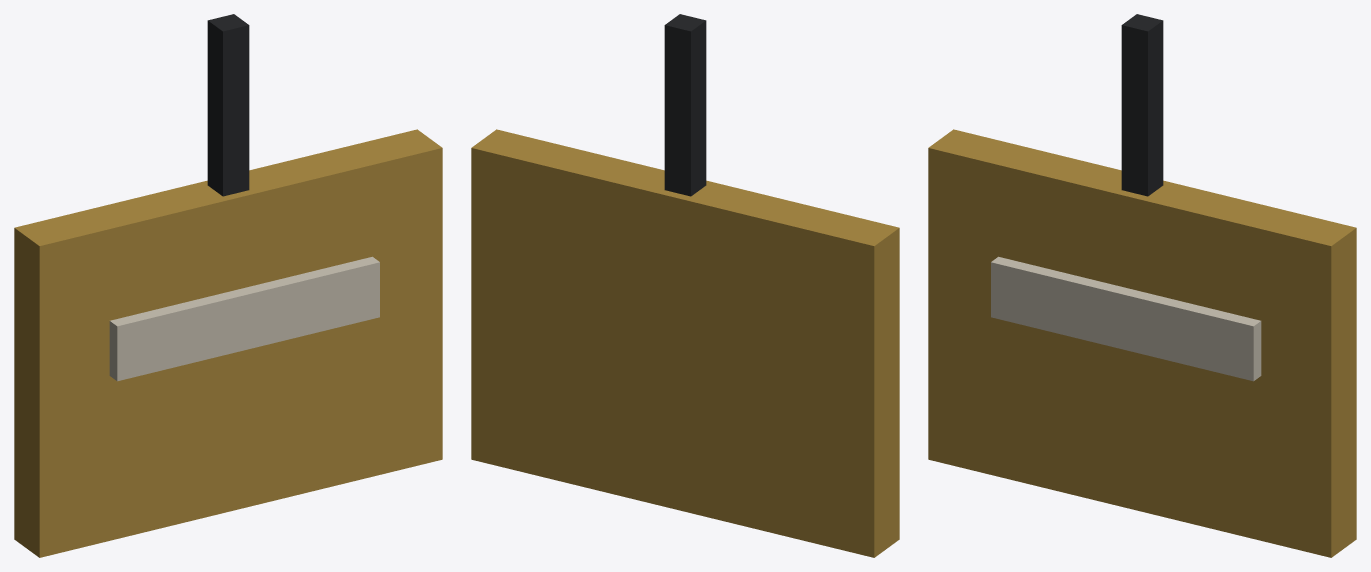
The model's file is poi_tagged_crate_piece_d.glb.
3 views of the same model, side by side, from view 1: azimuth 30°, elevation 25°; view 2: azimuth 150°, elevation 25°; view 3: azimuth 330°, elevation 25° (orthographic).
Visible parts, largest first — view 1: TaggedCratePieceD; view 2: TaggedCratePieceD; view 3: TaggedCratePieceD.
Boxes of the visible parts, left/top/right/bottom form: TaggedCratePieceD: left=14, top=14, right=442, bottom=557; TaggedCratePieceD: left=471, top=14, right=899, bottom=557; TaggedCratePieceD: left=928, top=14, right=1356, bottom=557.
Size of the model in its own units: 0.46 by 0.52 by 0.065.
